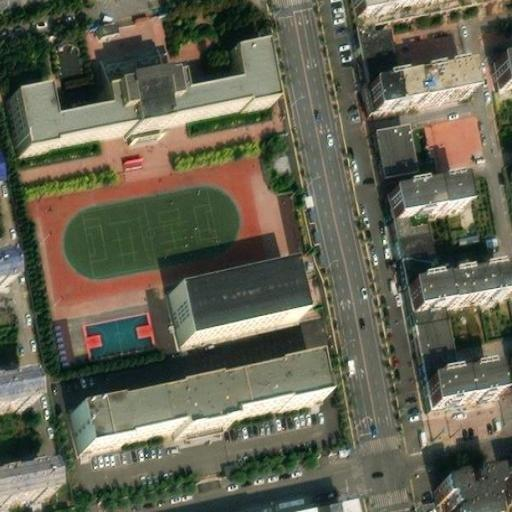building: (6, 46, 265, 160), (71, 361, 320, 457), (350, 24, 413, 187), (171, 269, 297, 345), (83, 12, 170, 80), (364, 70, 470, 123), (405, 271, 509, 322), (418, 113, 486, 178), (386, 184, 464, 231), (410, 316, 454, 392), (392, 225, 435, 297), (423, 376, 497, 415), (272, 190, 304, 257), (438, 477, 497, 512), (0, 466, 49, 504), (225, 498, 355, 512), (0, 374, 31, 413), (0, 248, 19, 282), (493, 61, 512, 93)
